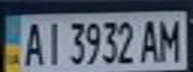2: (115, 17, 139, 65)
3: (63, 18, 84, 66), (100, 18, 121, 65)
9: (81, 18, 103, 66)
A: (18, 18, 45, 68), (136, 16, 163, 64)
I: (39, 18, 66, 66)
M: (154, 16, 184, 63)
